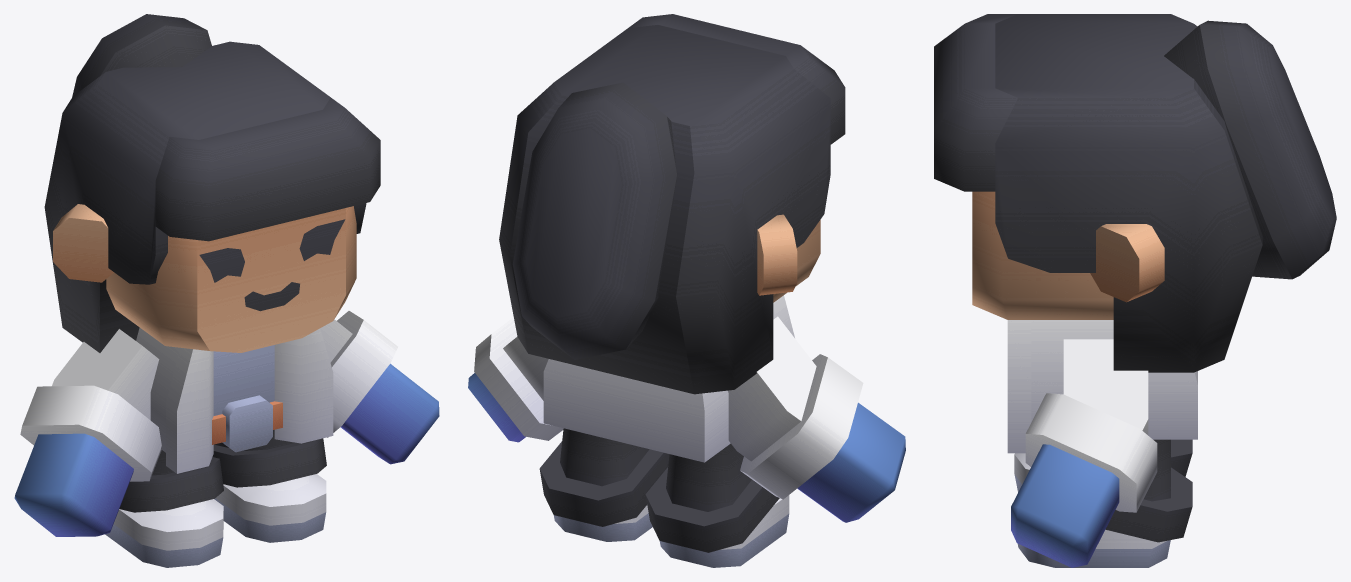
The model's file is person-3.glb.
3 renders of one model, left to right at view 1: azimuth 30°, elevation 25°; view 2: azimuth 150°, elevation 25°; view 3: azimuth 270°, elevation 25°, orthographic. The views are drawn at different scales.
Visible parts, largest first — view 1: body-mesh; view 2: body-mesh; view 3: body-mesh.
Boxes of the visible parts, bbox=[...] form: body-mesh: bbox=[14, 14, 439, 567]; body-mesh: bbox=[468, 14, 905, 567]; body-mesh: bbox=[934, 14, 1336, 567].
Bounding box in the file's own units: 1.54 × 1.67 × 1.23.
1 material, 1 textured.
